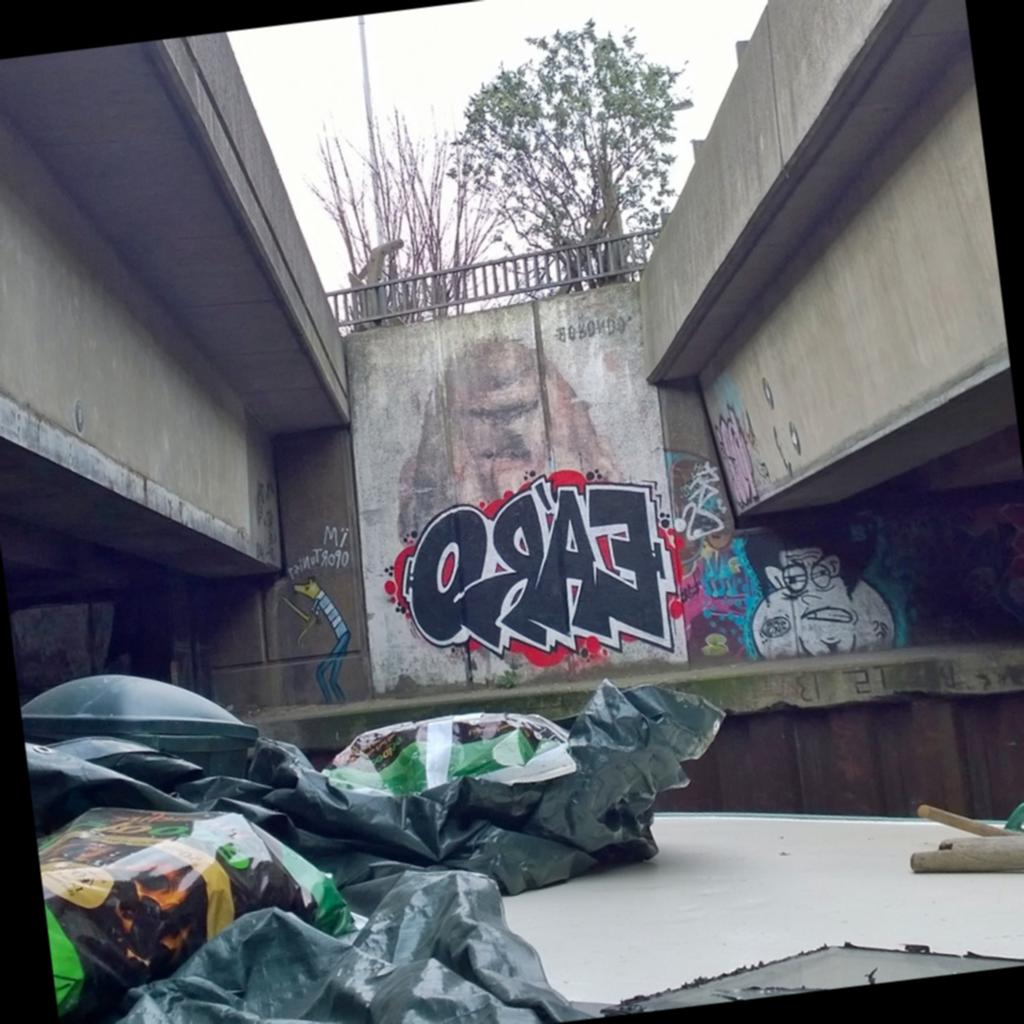graffiti: (368, 450, 686, 690), (738, 510, 899, 666), (877, 501, 1024, 642), (770, 646, 1024, 707), (275, 524, 360, 702), (752, 366, 816, 482), (702, 396, 766, 510), (554, 307, 638, 342), (250, 477, 279, 558)
trash: (16, 632, 382, 1016), (256, 666, 745, 928), (45, 842, 621, 1024), (596, 909, 1024, 1017)
